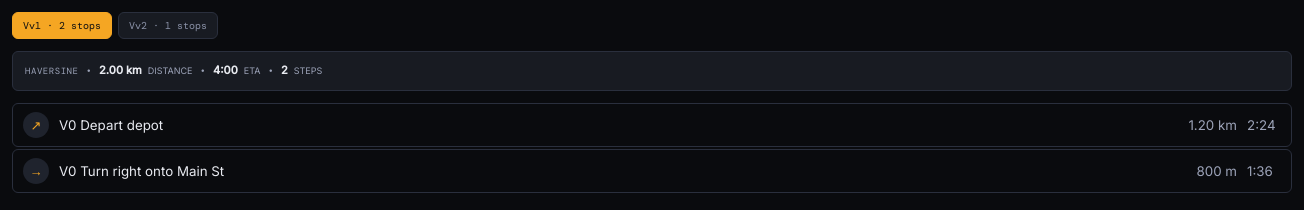
Scenario: RouteDetails › loads directions when switching vehicle tabs
Expected: the text "V0 Depart depot" is shown, 59,117 -> 163,133
Click the tab "Vv2 · 1 stops" at point(168, 26), box 118,12 -> 218,39
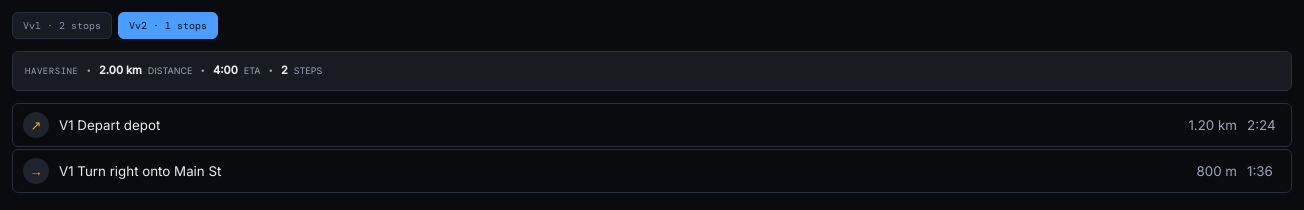
Now the text "V1 Turn right onto Main St" is shown, box 59,163 -> 221,179
